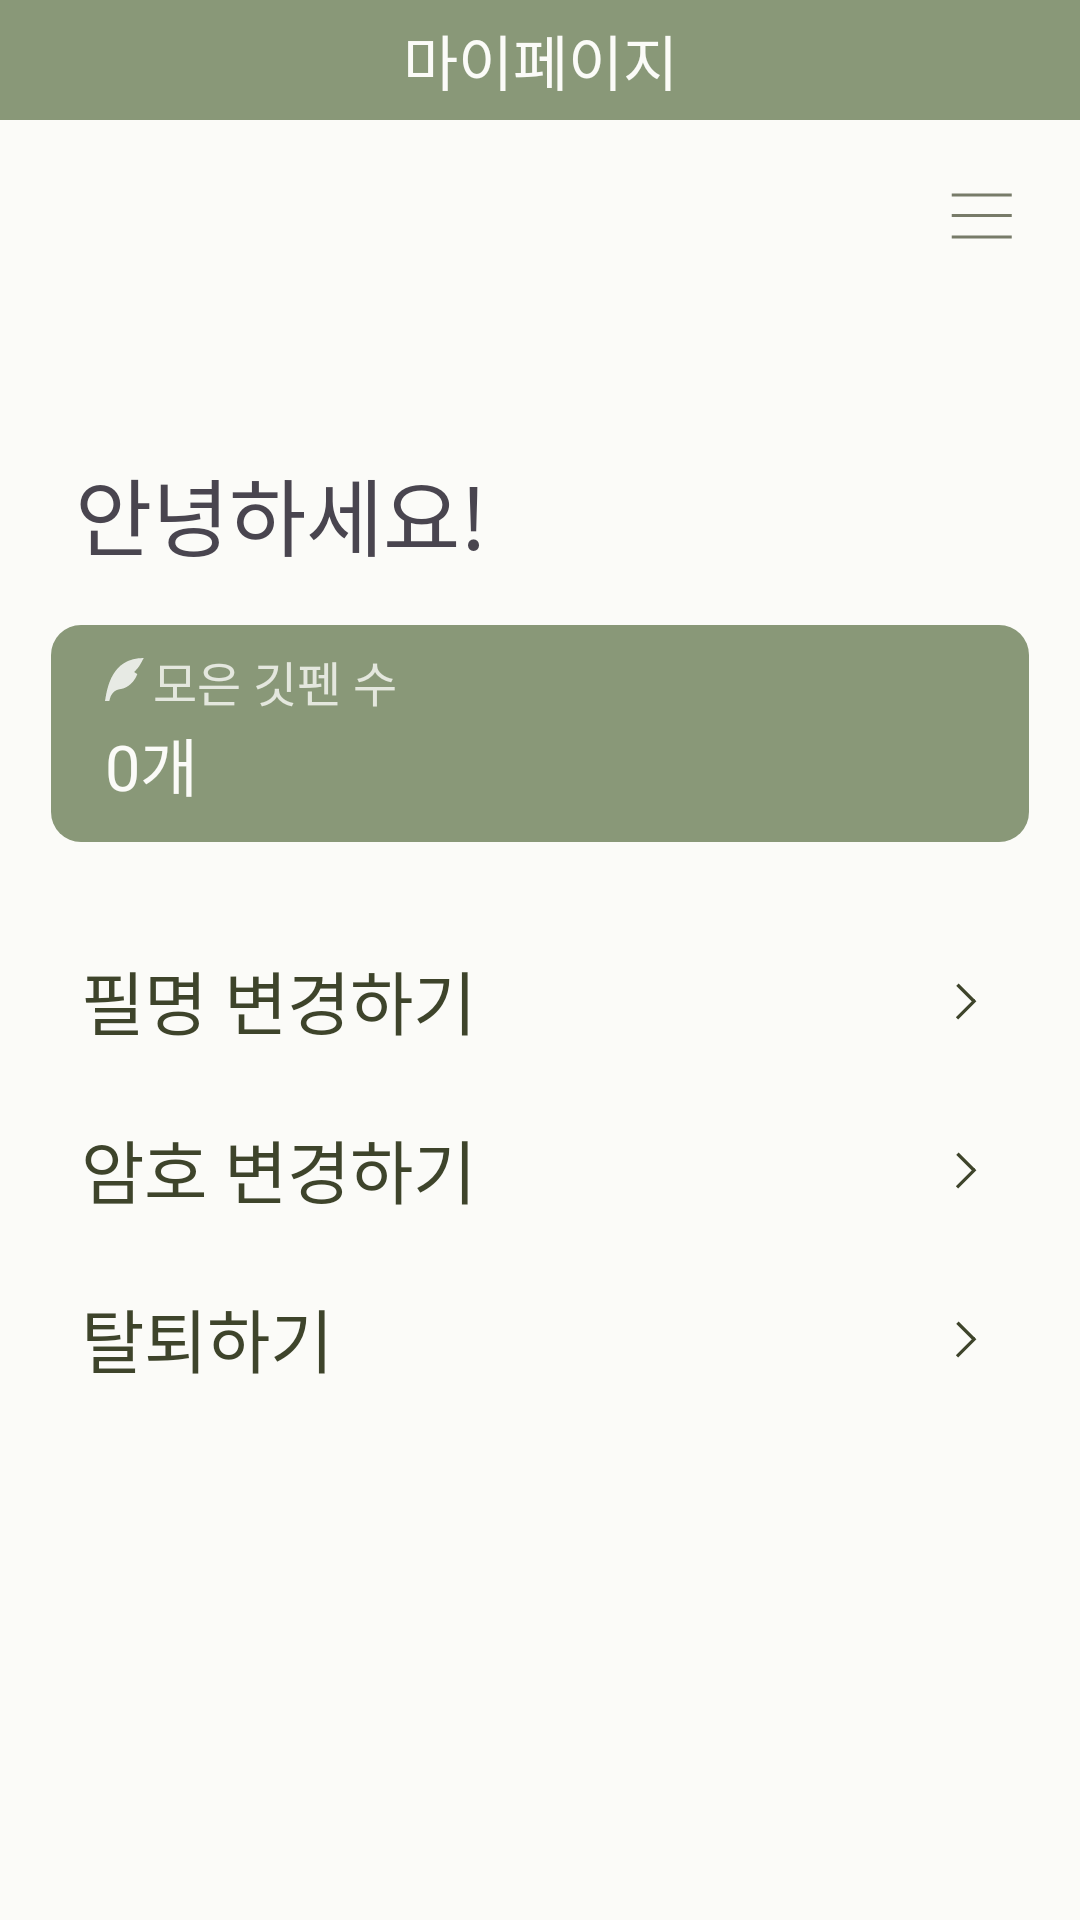

Named icons in this screenshot (1080 x 1920) and their bounding boxes, bbox=[x1, y1, x2, y2]:
arrow: bbox=[956, 983, 977, 1020], bbox=[956, 1152, 977, 1189], bbox=[956, 1321, 977, 1358]
feather: bbox=[105, 658, 144, 701]
navigation: bbox=[951, 193, 1012, 239]
